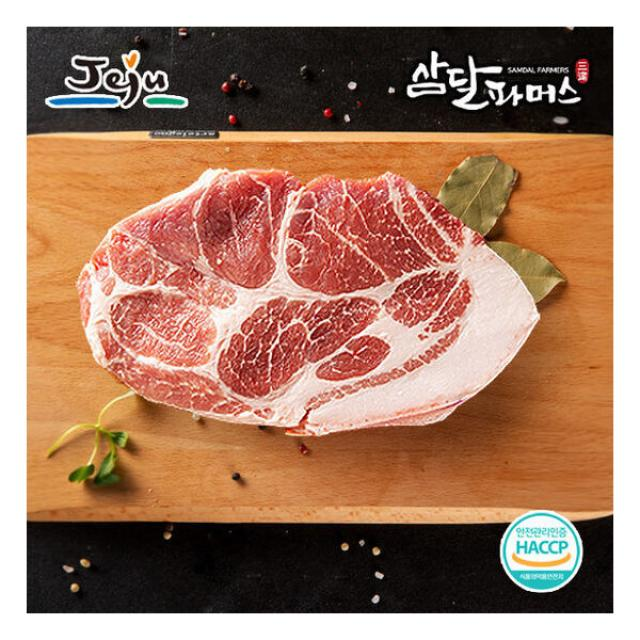pork: (73, 160, 554, 454)
